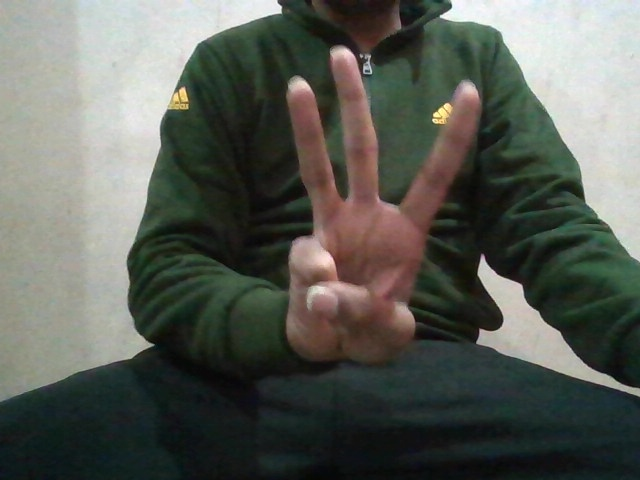W: (278, 47, 475, 369)
